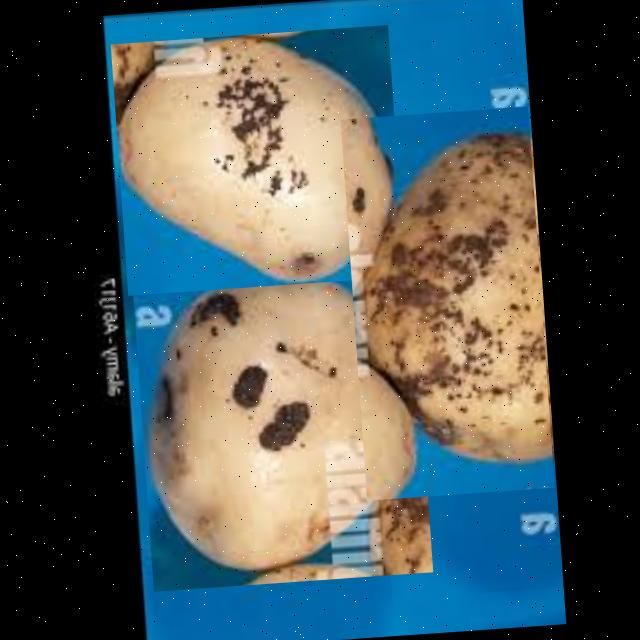Diseased-fungal potato: (132, 255, 432, 590), (340, 105, 554, 499), (110, 23, 405, 294)
